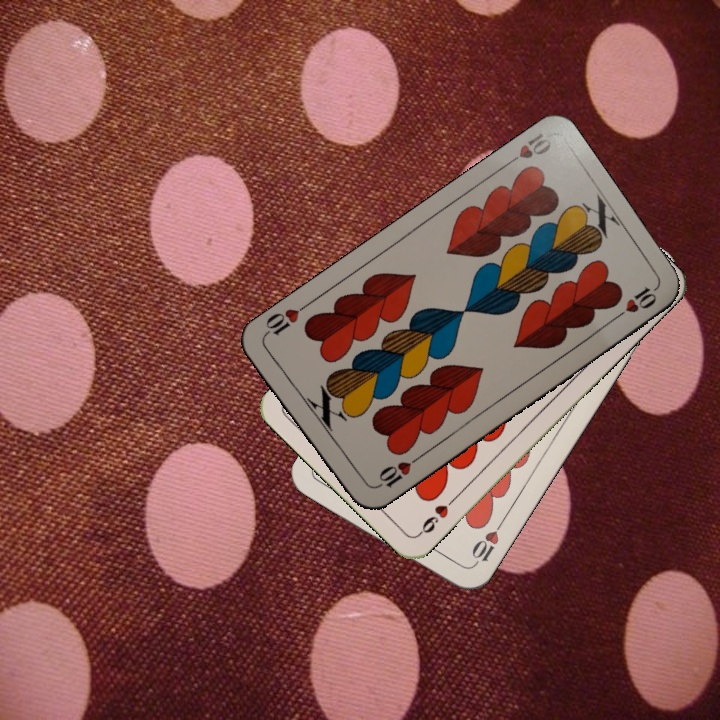H10: (499, 129, 556, 171), (369, 453, 421, 492), (467, 518, 505, 571)
H9: (414, 492, 460, 538)
